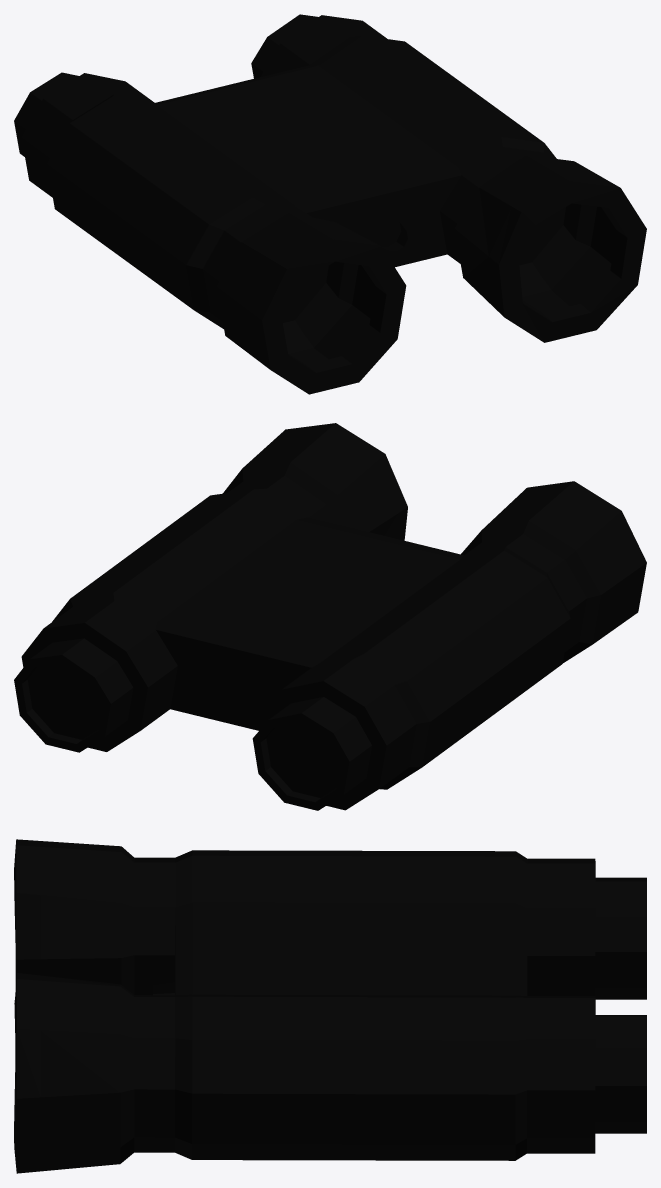
File: binóculos.fbx
The picture shows the model from 3 angles, top to bottom: view 1: azimuth 30°, elevation 25°; view 2: azimuth 150°, elevation 25°; view 3: azimuth 270°, elevation 25°; orthographic projection. The views are drawn at different scales.
Visible parts, largest first — view 1: Cylinder.001; view 2: Cylinder.001; view 3: Cylinder.001.
Boxes of the visible parts, x1=… form: Cylinder.001: x1=14, y1=14, x2=646, y2=394; Cylinder.001: x1=14, y1=423, x2=646, y2=810; Cylinder.001: x1=14, y1=839, x2=646, y2=1173.
Bounding box in the file's own units: 603 × 232 × 739.
Materials: 1 (1 with a texture image).
